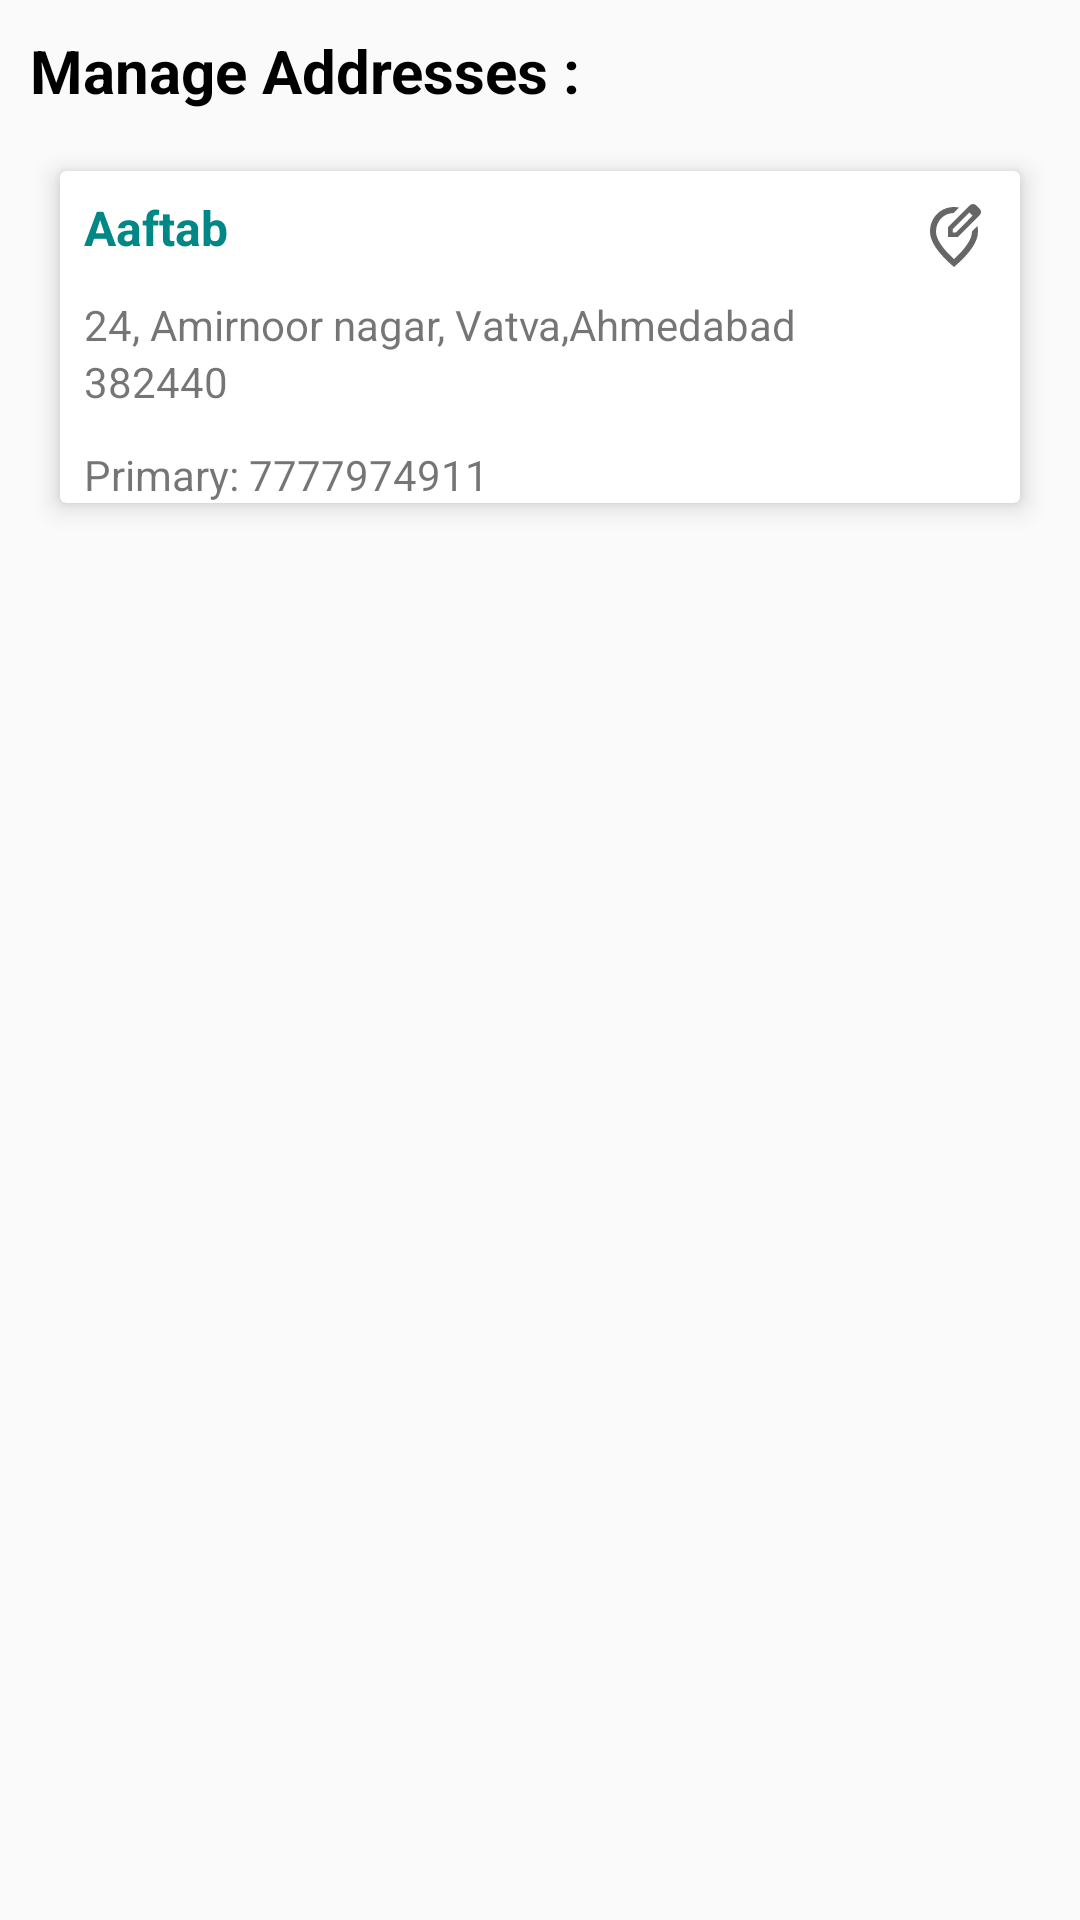

Icons on this 1080px x 1920px Android screen, each with its box as BBox(x1, y1, x2, y2):
edit location: BBox(930, 204, 981, 267)
